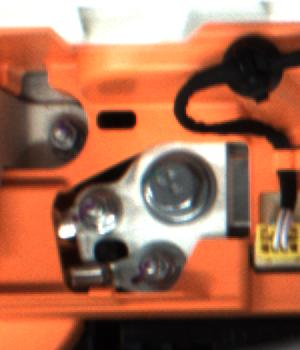nut_b: (136, 144, 221, 233)
